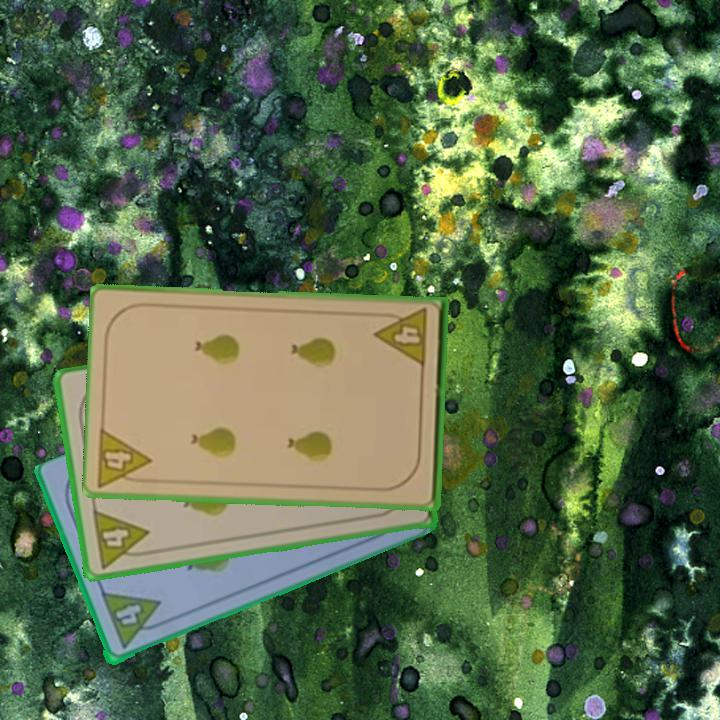4p: (97, 589, 170, 653), (89, 506, 155, 571), (95, 425, 156, 490), (373, 305, 430, 370)
